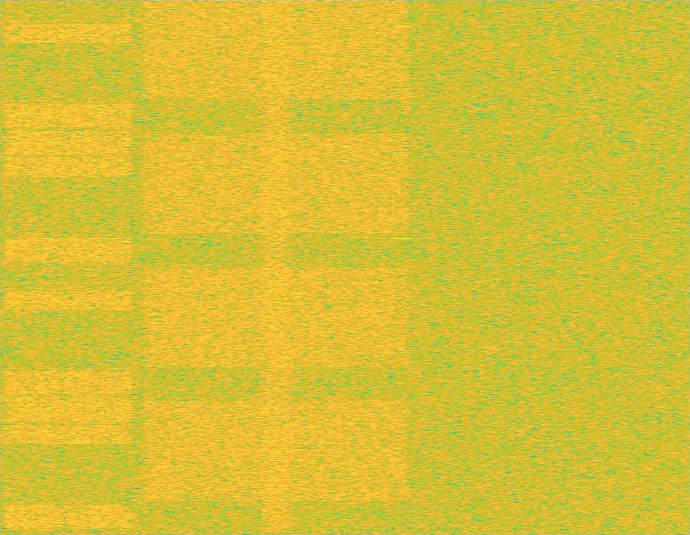5G: (138, 0, 414, 534)
DSSS: (257, 0, 295, 534)
LTE: (0, 0, 138, 534)
Radar: (395, 0, 408, 534)
